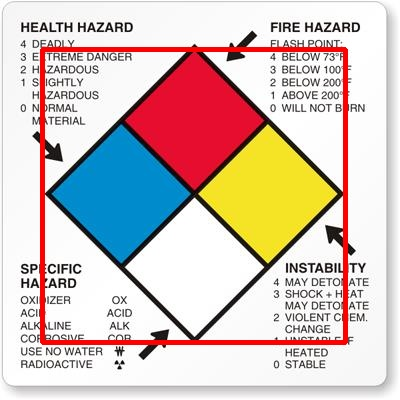nfpa: (42, 49, 345, 342)
